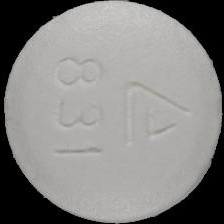21695-950: (0, 0, 224, 224)
